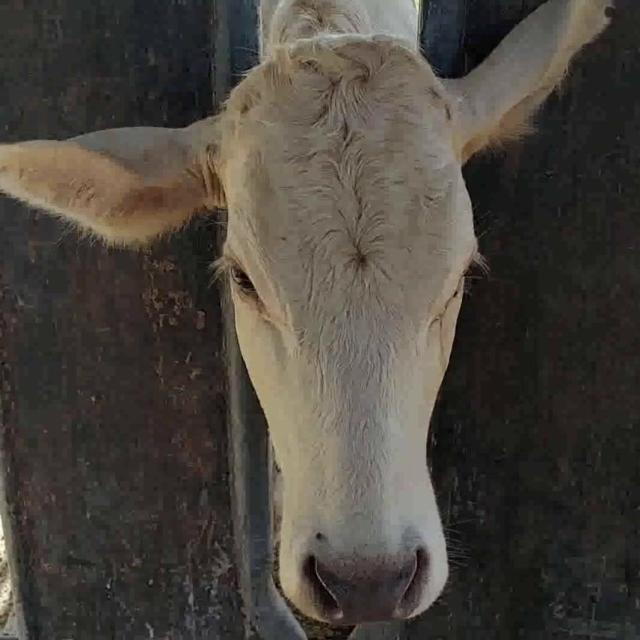cowFace: (219, 38, 475, 626)
